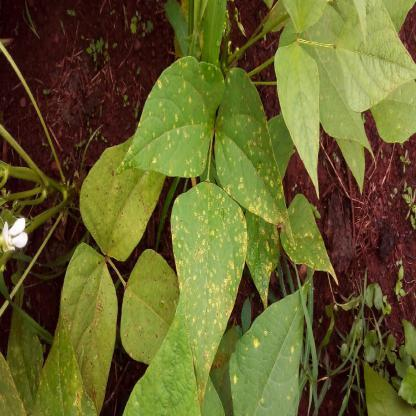Beans_Rust: (170, 184, 242, 388), (112, 54, 228, 177), (218, 65, 286, 241), (232, 282, 312, 416), (3, 312, 94, 416), (282, 195, 340, 289), (367, 90, 416, 144), (247, 242, 275, 308)
